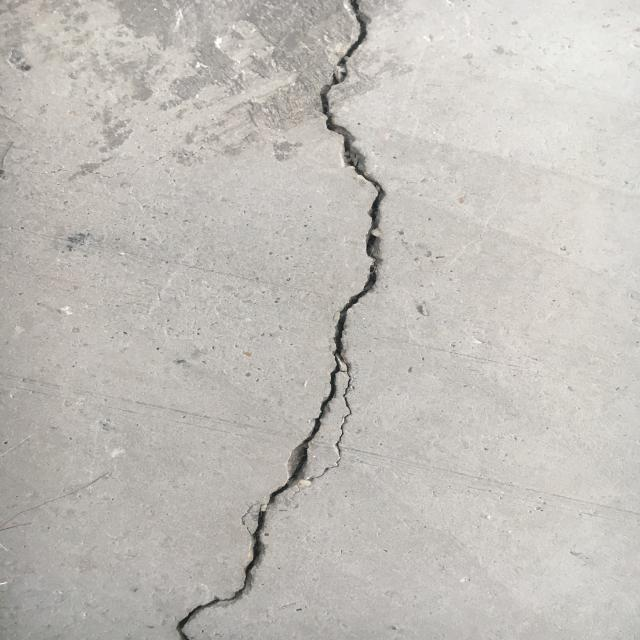Rachadura: (170, 0, 391, 640)
